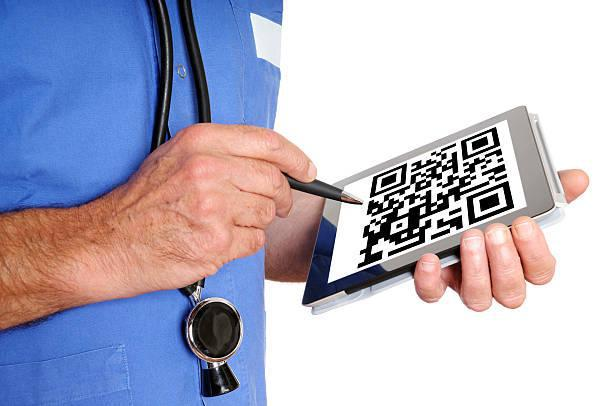Finder pattern: (462, 177, 516, 225), (458, 124, 502, 162), (367, 160, 409, 199)
